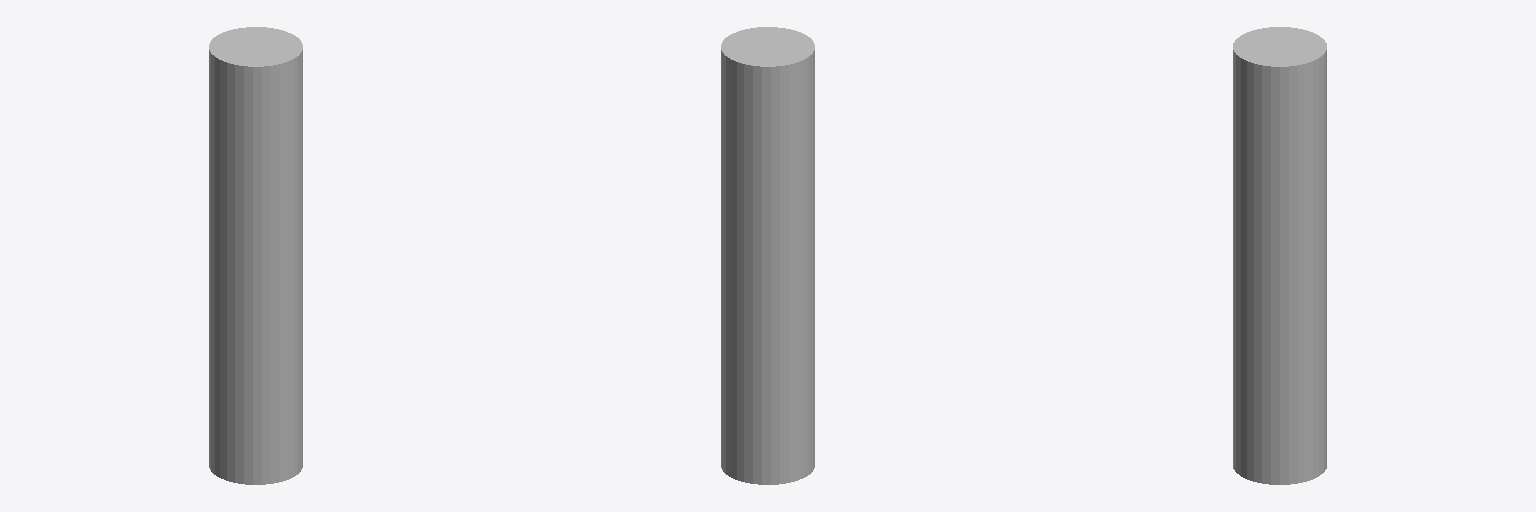
File: bolt.obj
3 views of the same model, side by side, from view 1: azimuth 30°, elevation 25°; view 2: azimuth 150°, elevation 25°; view 3: azimuth 270°, elevation 25° (orthographic).
Visible parts, largest first — view 1: Cylinder.002_Cylinder.004; view 2: Cylinder.002_Cylinder.004; view 3: Cylinder.002_Cylinder.004.
Boxes of the visible parts, <box> form: Cylinder.002_Cylinder.004: <box>209,27,302,484</box>; Cylinder.002_Cylinder.004: <box>721,27,814,484</box>; Cylinder.002_Cylinder.004: <box>1233,27,1326,484</box>.
Size of the model in its own units: 0.041 by 0.2 by 0.041.